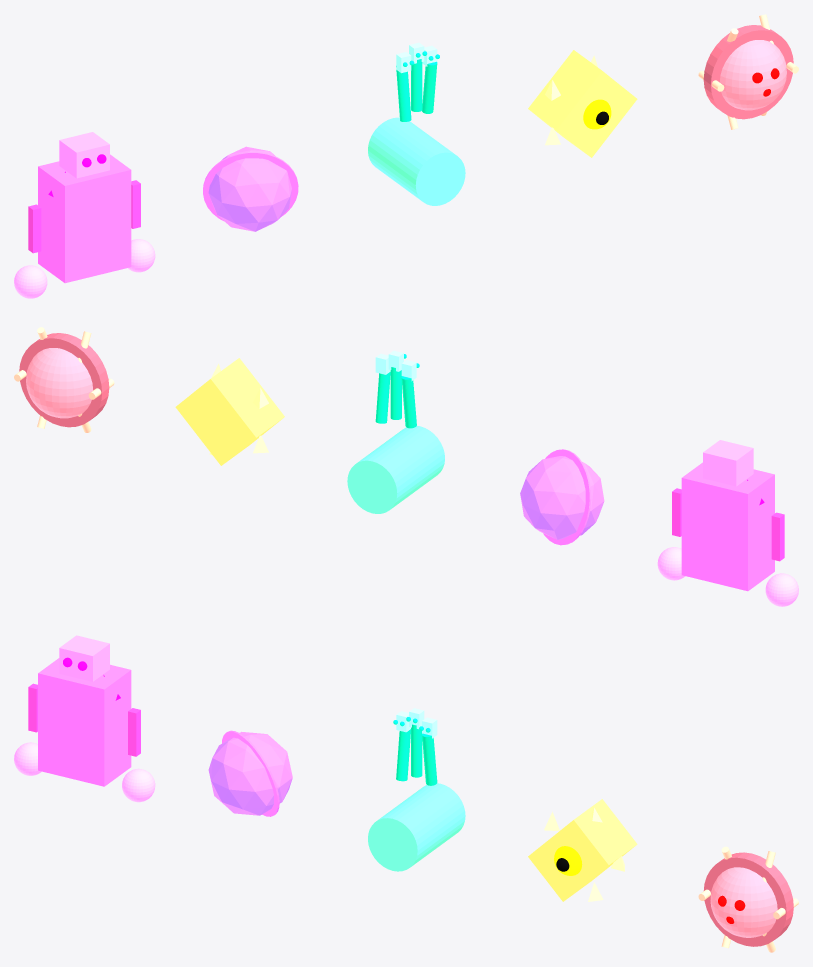
Rendered from bosses.glb.
3 renders of one model, top to bottom at view 1: azimuth 30°, elevation 25°; view 2: azimuth 150°, elevation 25°; view 3: azimuth 330°, elevation 25°, orthographic.
Visible parts, largest first — view 1: Boss_Titan_Body, Boss_Hydra_Body, Boss_Overseer_Body, Boss_VoidCore_Shell, Boss_Omega_Core, Boss_Omega_Ring, Boss_Titan_Head, Boss_VoidCore_Ring_2, Boss_Titan_Fist_L, Boss_Titan_Fist_R, Boss_Titan_Arm_L, Boss_Hydra_Neck_2 (+3 smaller); view 2: Boss_Titan_Body, Boss_Overseer_Body, Boss_Hydra_Body, Boss_VoidCore_Shell, Boss_Omega_Core, Boss_Omega_Ring, Boss_Titan_Head, Boss_VoidCore_Ring_2, Boss_Titan_Fist_L, Boss_Titan_Fist_R, Boss_Titan_Arm_L, Boss_Hydra_Neck_0 (+2 smaller); view 3: Boss_Titan_Body, Boss_Hydra_Body, Boss_VoidCore_Shell, Boss_Overseer_Body, Boss_Omega_Core, Boss_Omega_Ring, Boss_Titan_Head, Boss_Titan_Fist_R, Boss_Titan_Fist_L, Boss_VoidCore_Ring_2, Boss_Hydra_Neck_2, Boss_Titan_Arm_R (+2 smaller).
Boxes of the visible parts, box(x1,y1,x2,y2) form: Boss_Titan_Body: box(38, 154, 131, 283); Boss_Hydra_Body: box(368, 117, 465, 205); Boss_Overseer_Body: box(528, 50, 637, 157); Boss_VoidCore_Shell: box(208, 146, 291, 231); Boss_Omega_Core: box(719, 40, 786, 110); Boss_Omega_Ring: box(703, 25, 793, 119); Boss_Titan_Head: box(59, 132, 109, 178); Boss_VoidCore_Ring_2: box(203, 151, 298, 221); Boss_Titan_Fist_L: box(14, 265, 47, 298); Boss_Titan_Fist_R: box(127, 239, 155, 272); Boss_Titan_Arm_L: box(28, 204, 41, 253); Boss_Hydra_Neck_2: box(422, 61, 437, 113); Boss_Titan_Body: box(681, 462, 774, 591); Boss_Overseer_Body: box(175, 358, 284, 465); Boss_Hydra_Body: box(347, 426, 444, 513); Boss_VoidCore_Shell: box(520, 456, 604, 539); Boss_Omega_Core: box(26, 348, 93, 418); Boss_Omega_Ring: box(19, 333, 109, 427); Boss_Titan_Head: box(703, 440, 753, 486); Boss_VoidCore_Ring_2: box(543, 449, 591, 545); Boss_Titan_Fist_L: box(765, 573, 798, 606); Boss_Titan_Fist_R: box(657, 547, 685, 580); Boss_Titan_Arm_L: box(771, 512, 784, 561); Boss_Hydra_Neck_0: box(401, 376, 416, 428); Boss_Titan_Body: box(38, 658, 131, 786); Boss_Hydra_Body: box(368, 783, 465, 871); Boss_VoidCore_Shell: box(208, 731, 292, 815); Boss_Overseer_Body: box(528, 799, 637, 901); Boss_Omega_Core: box(710, 867, 777, 937); Boss_Omega_Ring: box(703, 852, 793, 946); Boss_Titan_Head: box(59, 635, 109, 681); Boss_Titan_Fist_R: box(122, 768, 155, 802); Boss_Titan_Fist_L: box(14, 742, 41, 775); Boss_VoidCore_Ring_2: box(222, 730, 279, 816); Boss_Hydra_Neck_2: box(422, 733, 437, 785); Boss_Titan_Arm_R: box(128, 708, 140, 756).
Size of the model in its own units: 18.65 by 3.64 by 2.
